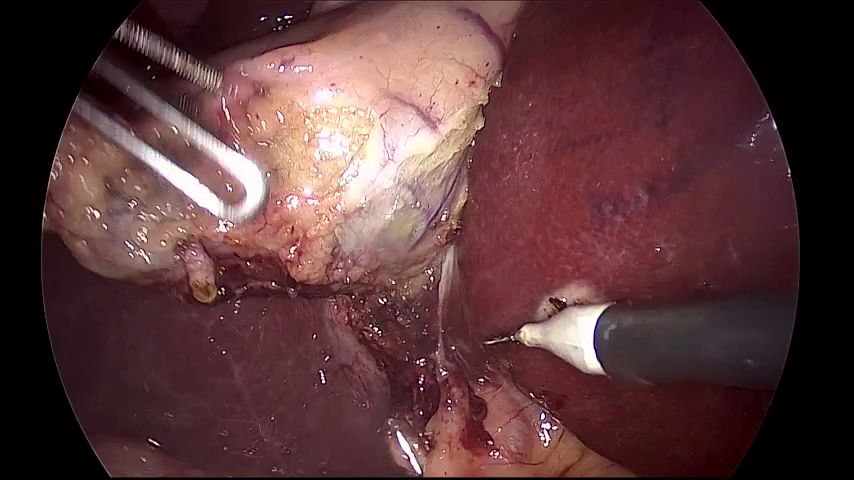grasper: (73, 19, 263, 224)
lhook: (486, 291, 798, 391)
